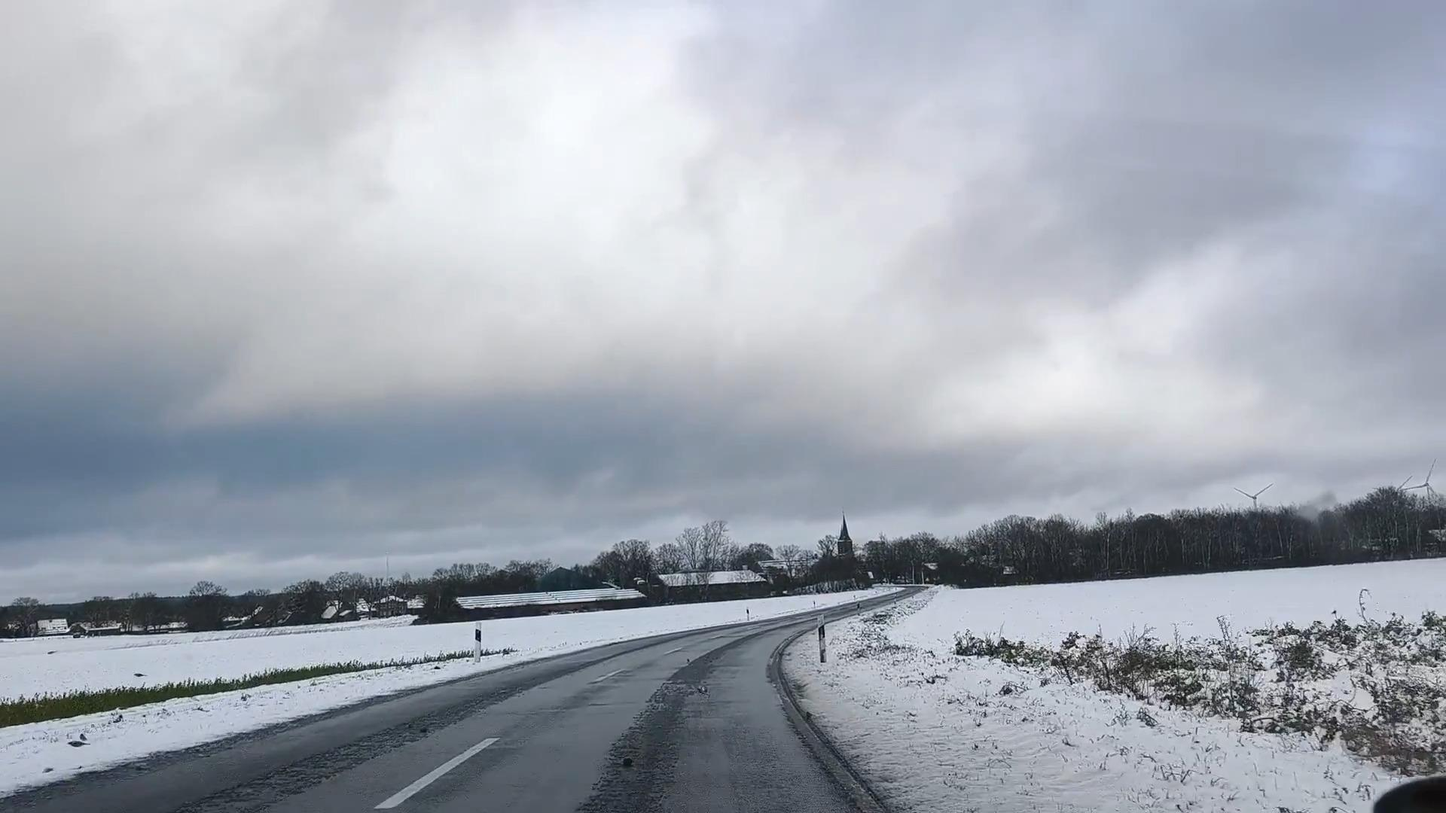Snow: (783, 559, 1446, 813), (0, 601, 789, 796)
wet: (0, 586, 933, 813)
